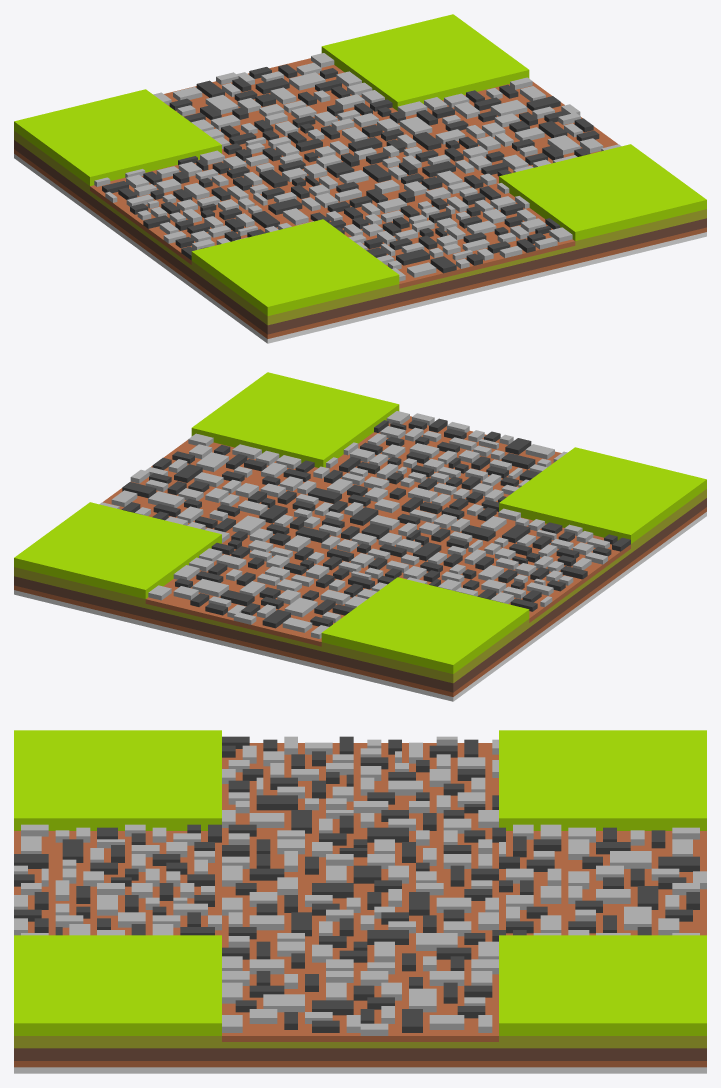
The model's file is Ways-3-Way Cross.obj.
3 renders of one model, top to bottom at view 1: azimuth 30°, elevation 25°; view 2: azimuth 150°, elevation 25°; view 3: azimuth 270°, elevation 25°, orthographic. The views are drawn at different scales.
Visible parts, largest first — view 1: Way Cross; view 2: Way Cross; view 3: Way Cross.
Part boxes in pixels (box(x1,y1,x2,y2)): Way Cross: box(14, 14, 706, 343); Way Cross: box(14, 372, 706, 701); Way Cross: box(14, 730, 706, 1073).
Size of the model in its own units: 10 by 0.8 by 10.
1 material, 1 textured.
